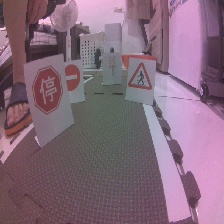blocked: (62, 62, 82, 95)
pedestrian: (128, 61, 155, 95)
rail: (105, 53, 119, 80)
stop: (27, 65, 67, 117)
